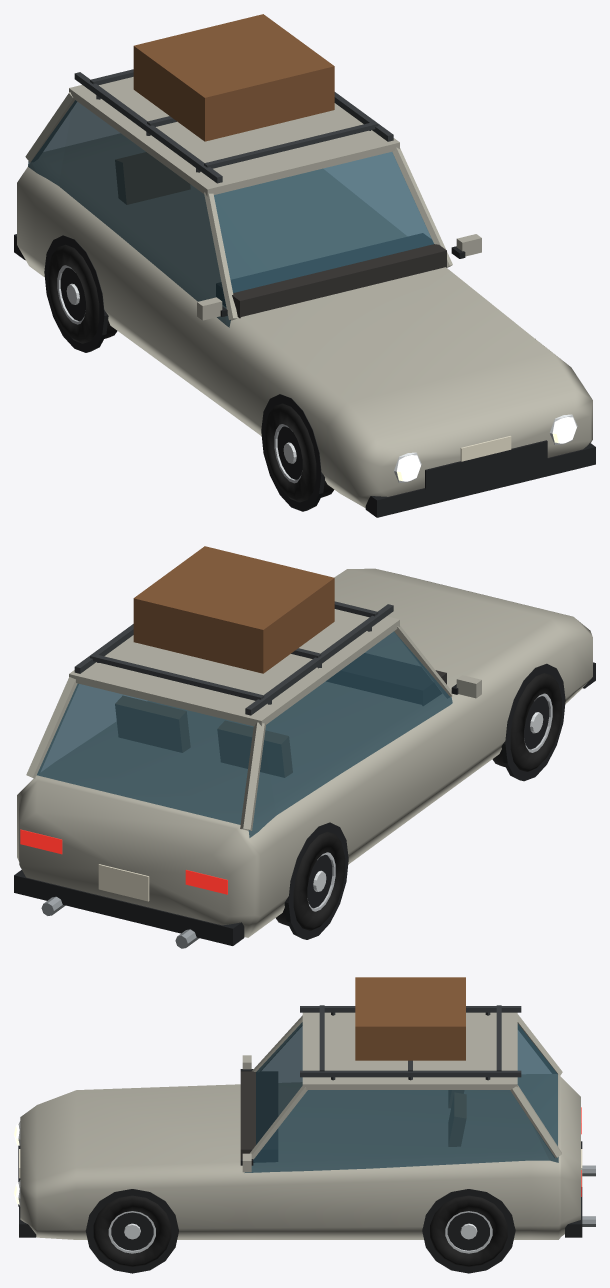
Rendered from thistle-estate.glb.
3 renders of one model, top to bottom at view 1: azimuth 30°, elevation 25°; view 2: azimuth 150°, elevation 25°; view 3: azimuth 270°, elevation 25°, orthographic. The views are drawn at different scales.
Visible parts, largest first — view 1: body, wheel_FR, wheel_RR, plate_F, headlight_L, headlight_R; view 2: body, wheel_RR, wheel_FR, plate_R, taillight_L, taillight_R; view 3: body, wheel_FL, wheel_RL.
Boxes of the visible parts, <box> form: body: <box>14,14,595,517</box>; wheel_FR: <box>264,403,334,502</box>; wheel_RR: <box>48,244,117,343</box>; plate_F: <box>460,436,511,461</box>; headlight_L: <box>549,414,577,444</box>; headlight_R: <box>394,452,421,482</box>; body: <box>14,546,595,945</box>; wheel_RR: <box>276,832,345,930</box>; wheel_FR: <box>492,673,561,771</box>; plate_R: <box>98,864,149,901</box>; taillight_L: <box>20,829,62,854</box>; taillight_R: <box>185,870,227,894</box>; body: <box>18,977,582,1273</box>; wheel_FL: <box>93,1195,171,1266</box>; wheel_RL: <box>430,1195,507,1266</box>.
Bounding box in the file's own units: 2.01 × 2 × 4.67.
